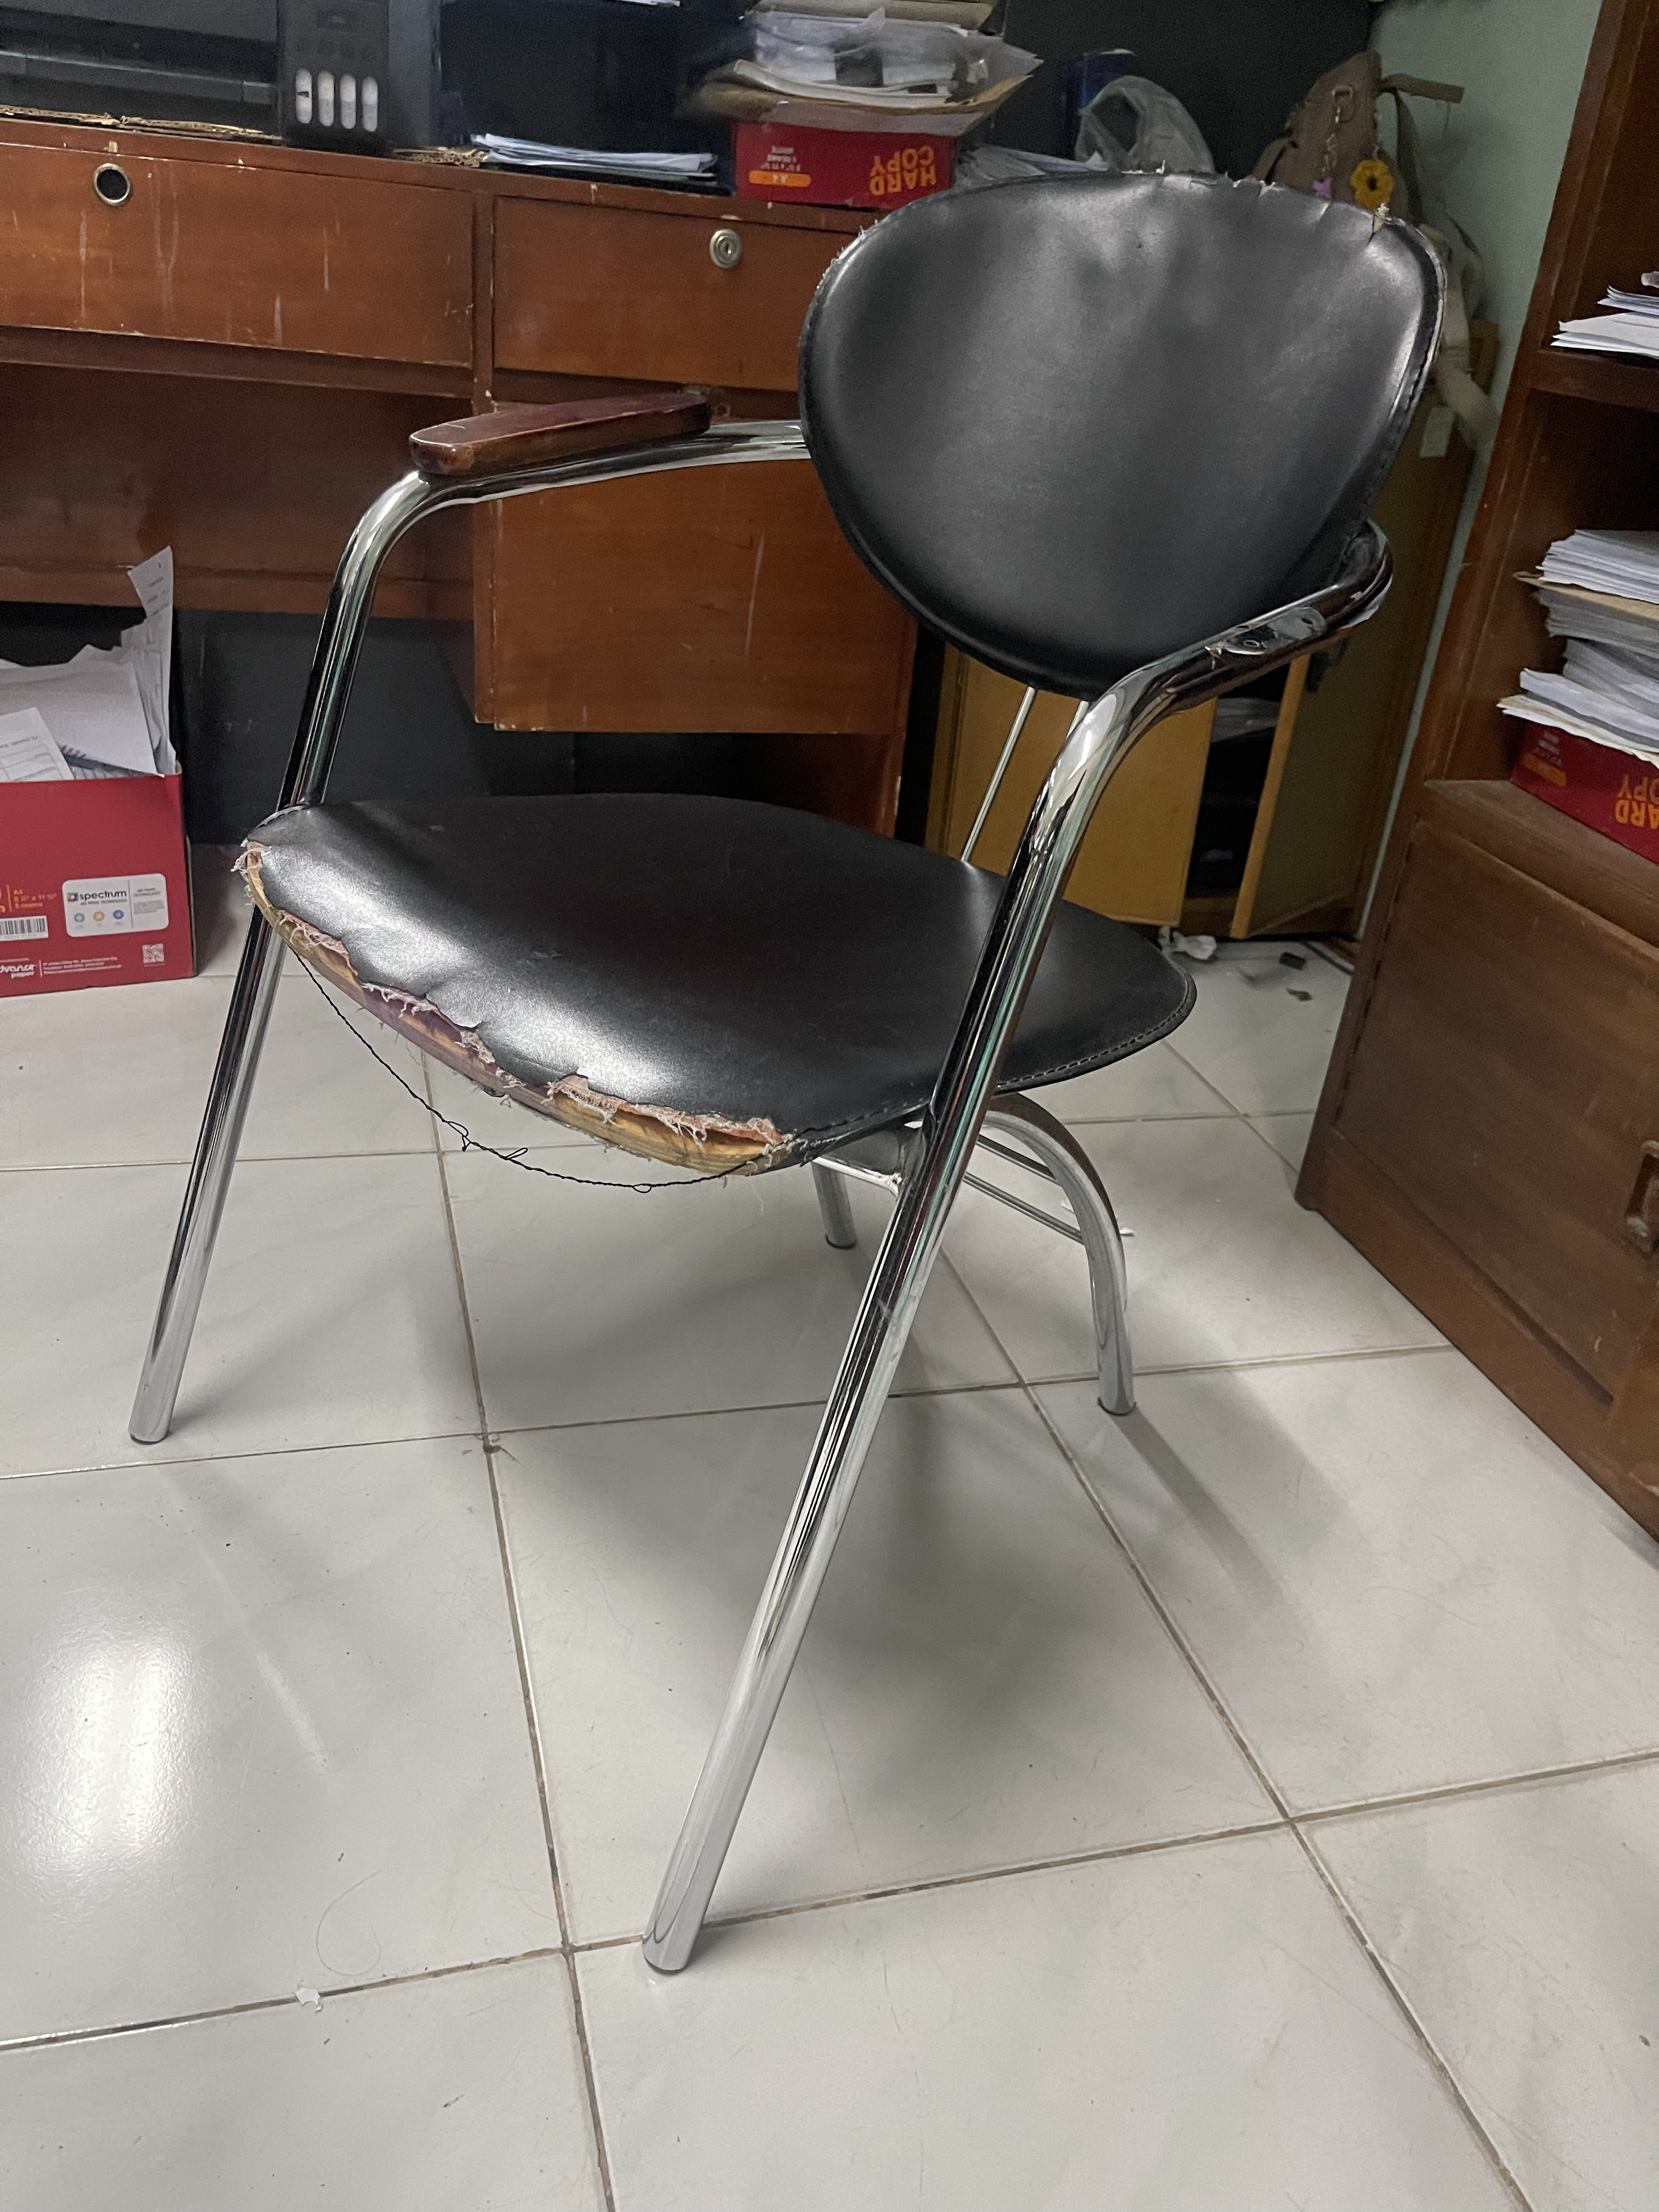chair1: (119, 155, 1453, 1970)
